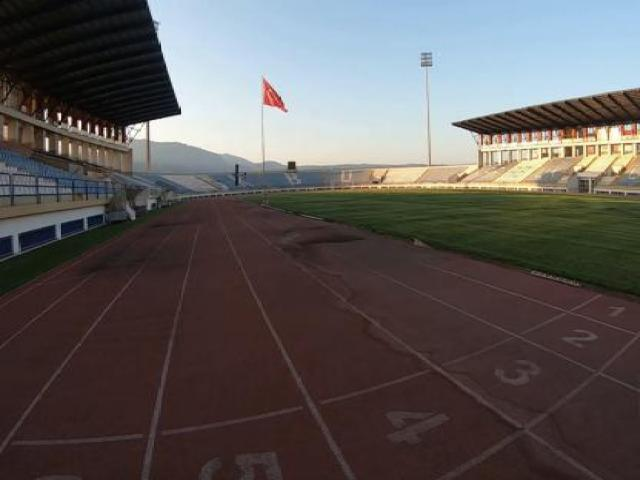uav: (231, 161, 247, 187)
